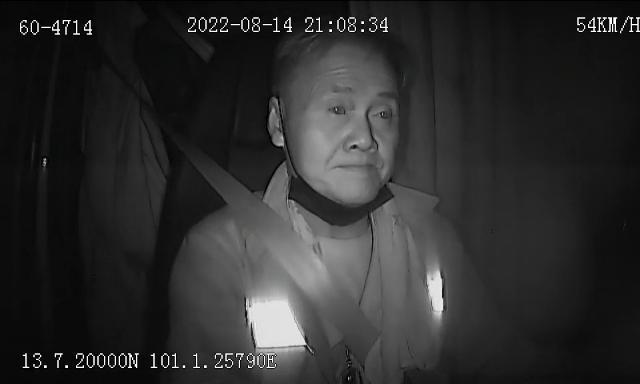SafeDriving: (366, 96, 399, 128), (322, 92, 356, 122)
Seatbelt: (191, 152, 381, 344)
